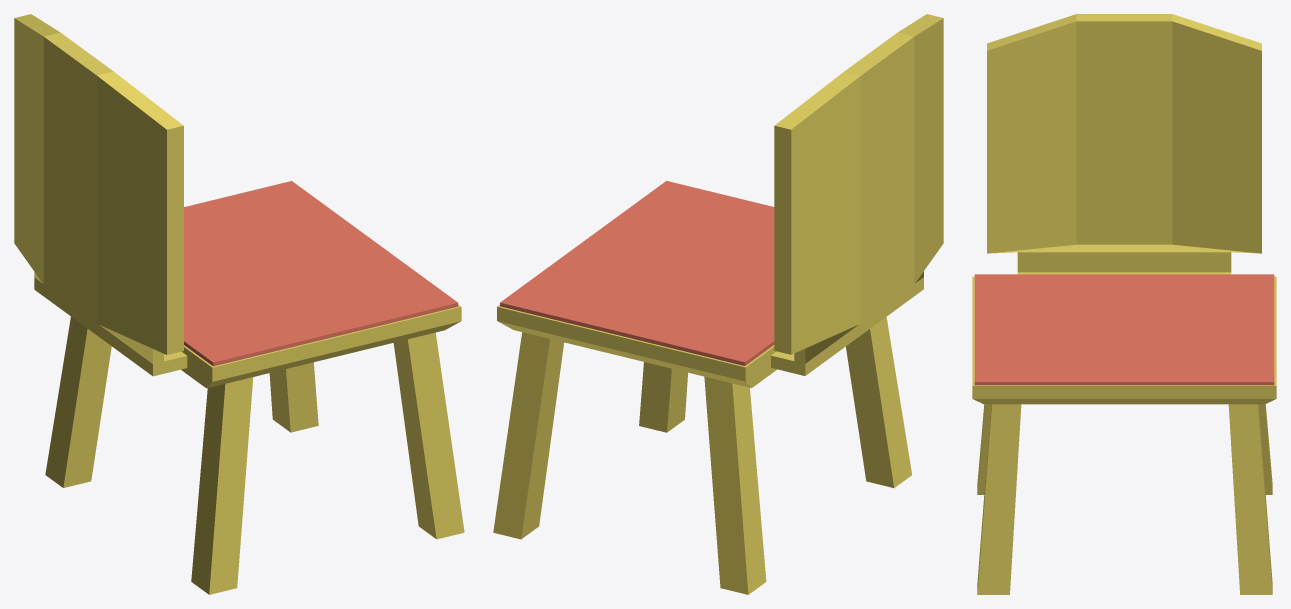
The model's file is Bedroom Chair.fbx.
3 renders of one model, left to right at view 1: azimuth 30°, elevation 25°; view 2: azimuth 150°, elevation 25°; view 3: azimuth 270°, elevation 25°, orthographic. The views are drawn at different scales.
Parts seen in each view (by area): view 1: Bedroom Chair; view 2: Bedroom Chair; view 3: Bedroom Chair.
Part boxes in pixels (x1,y1,x2,y2): Bedroom Chair: (14,14,464,594); Bedroom Chair: (493,14,943,594); Bedroom Chair: (972,14,1276,594).
Size of the model in its own units: 80.07 by 121 by 74.96.
